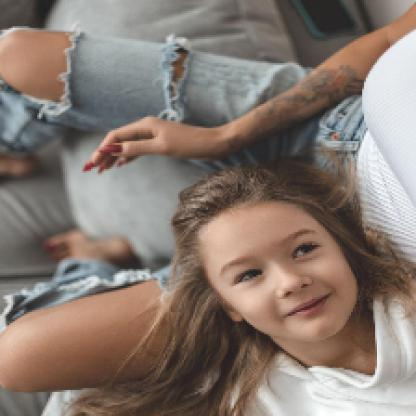child: (72, 161, 416, 416)
